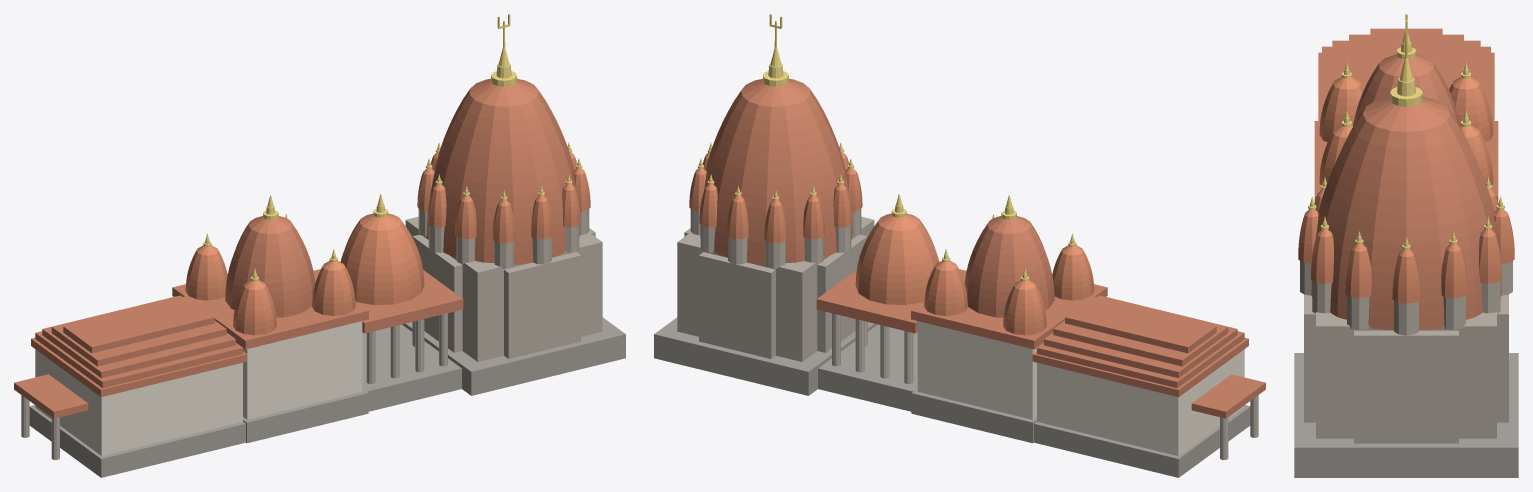
The model's file is kamakhya_temple.glb.
3 views of the same model, side by side, from view 1: azimuth 30°, elevation 25°; view 2: azimuth 150°, elevation 25°; view 3: azimuth 270°, elevation 25° (orthographic). The views are drawn at different scales.
Visible parts, largest first — view 1: kamakhya_temple; view 2: kamakhya_temple; view 3: kamakhya_temple.
Boxes of the visible parts, left/top/right/bottom form: kamakhya_temple: left=14, top=14, right=625, bottom=477; kamakhya_temple: left=654, top=14, right=1265, bottom=477; kamakhya_temple: left=1294, top=14, right=1518, bottom=477.
Bounding box in the file's own units: 33.3 × 19.11 × 9.4.
